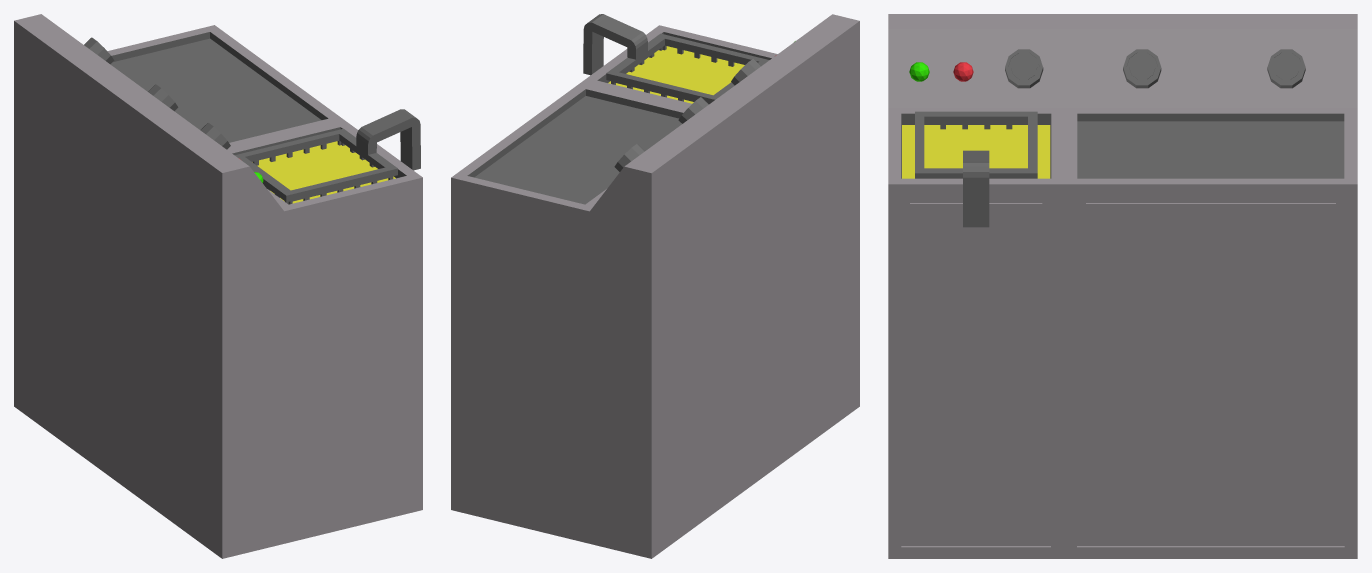
File: Fryer.fbx
3 renders of one model, left to right at view 1: azimuth 30°, elevation 25°; view 2: azimuth 150°, elevation 25°; view 3: azimuth 270°, elevation 25°, orthographic. The views are drawn at different scales.
Parts seen in each view (by area): view 1: Fryer, Stainer; view 2: Fryer, Stainer; view 3: Fryer, Stainer.
Part boxes in pixels (x1,y1,x2,y2): Fryer: (14,14,422,558); Stainer: (235,109,420,204); Fryer: (451,14,859,558); Stainer: (583,14,769,104); Fryer: (888,14,1357,558); Stainer: (915,111,1037,227).
Bounding box in the file's own units: 88.23 × 140 × 137.
